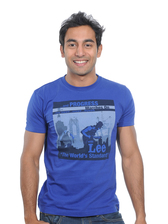clothoes: (25, 74, 141, 214)
